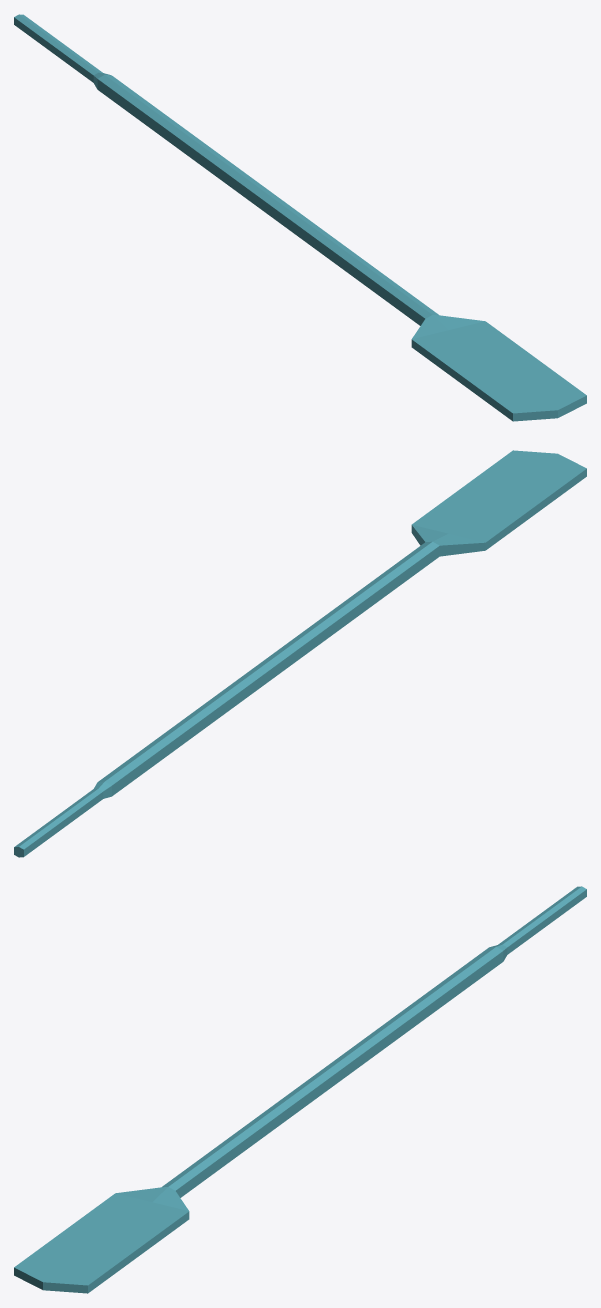
The model's file is SM_Prop_Oar_01.glb.
3 renders of one model, top to bottom at view 1: azimuth 30°, elevation 25°; view 2: azimuth 150°, elevation 25°; view 3: azimuth 330°, elevation 25°, orthographic.
Parts seen in each view (by area): view 1: SM_Prop_Oar_01; view 2: SM_Prop_Oar_01; view 3: SM_Prop_Oar_01.
Boxes of the visible parts, x1,y1,x2,y2 form: SM_Prop_Oar_01: [14, 14, 586, 421]; SM_Prop_Oar_01: [14, 450, 586, 857]; SM_Prop_Oar_01: [14, 886, 586, 1293].
Size of the model in its own units: 0.00277 by 0.000553 by 0.0349.
